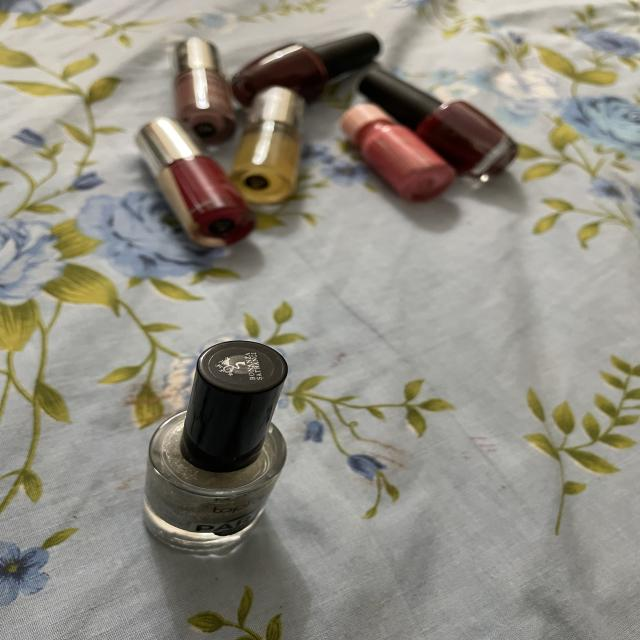Tint: (335, 92, 452, 211)
nail polish: (116, 316, 331, 556), (119, 120, 252, 246), (226, 21, 399, 99), (218, 84, 322, 204), (168, 24, 230, 127)
